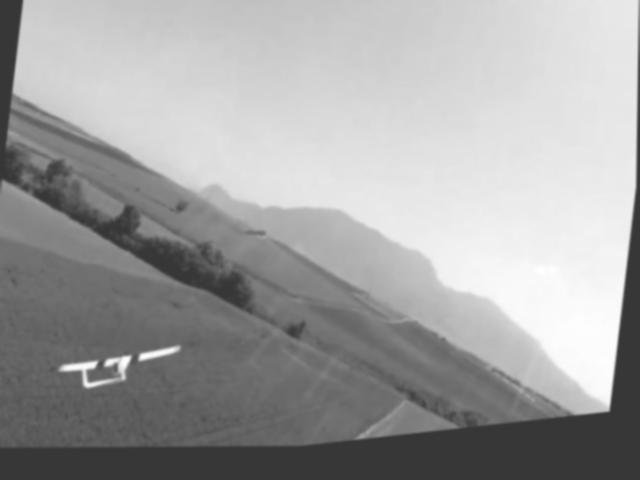hedef: (51, 329, 188, 414)
